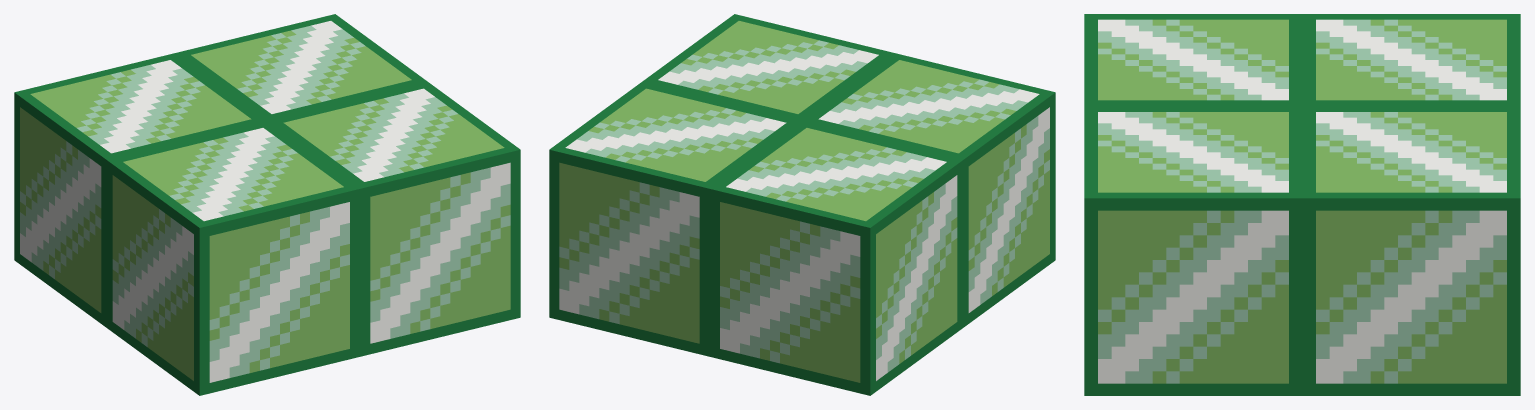
Rendered from alter_tiles_green2x2.fbx.
3 views of the same model, side by side, from view 1: azimuth 30°, elevation 25°; view 2: azimuth 150°, elevation 25°; view 3: azimuth 270°, elevation 25° (orthographic). The views are drawn at different scales.
Parts seen in each view (by area): view 1: alter_tiles_green2x2; view 2: alter_tiles_green2x2; view 3: alter_tiles_green2x2.
Boxes of the visible parts, x1,y1,x2,y2 form: alter_tiles_green2x2: (14, 14, 520, 395); alter_tiles_green2x2: (549, 14, 1055, 395); alter_tiles_green2x2: (1084, 14, 1520, 395).
Size of the model in its own units: 3.2 by 1.6 by 3.2.
Materials: 1 (1 with a texture image).
